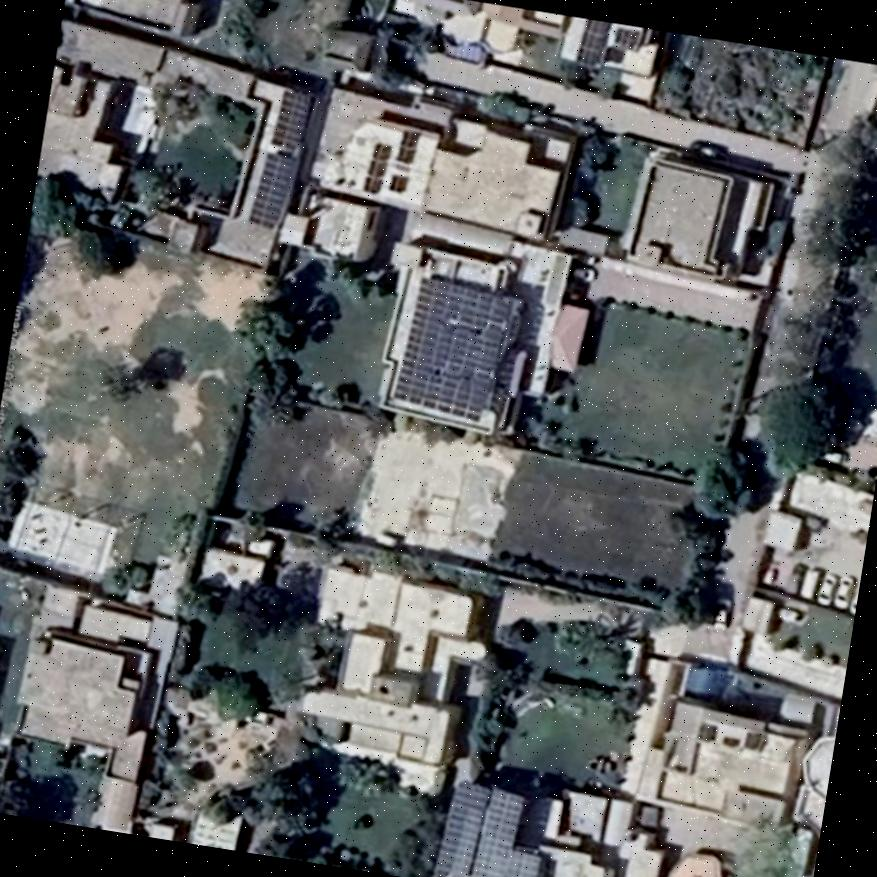Solarpanel: (399, 277, 509, 420), (466, 786, 524, 877), (436, 782, 489, 877), (249, 150, 293, 225), (273, 90, 310, 148), (575, 18, 612, 67), (504, 846, 545, 877)
